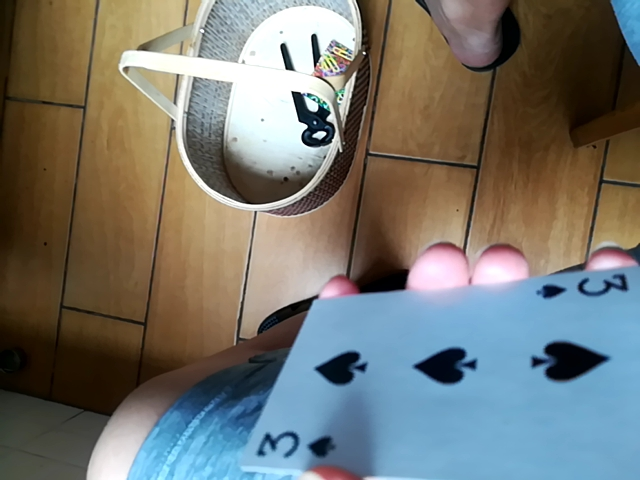ht 3: (232, 251, 631, 477)
